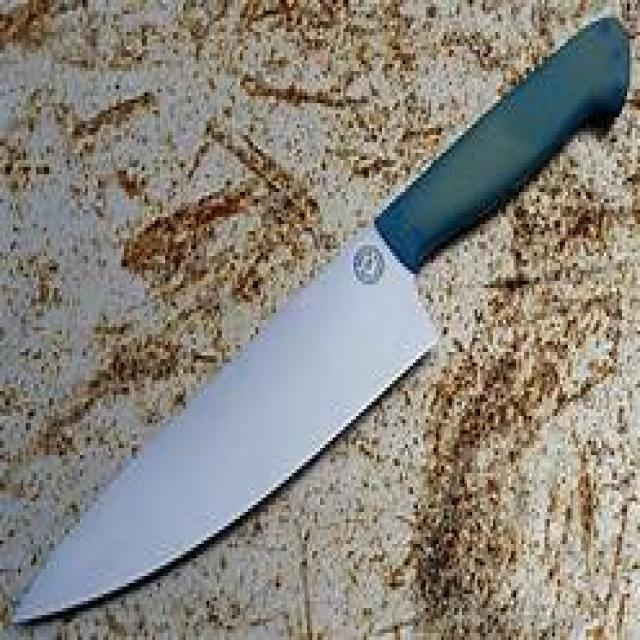Knife: (18, 18, 627, 619)
